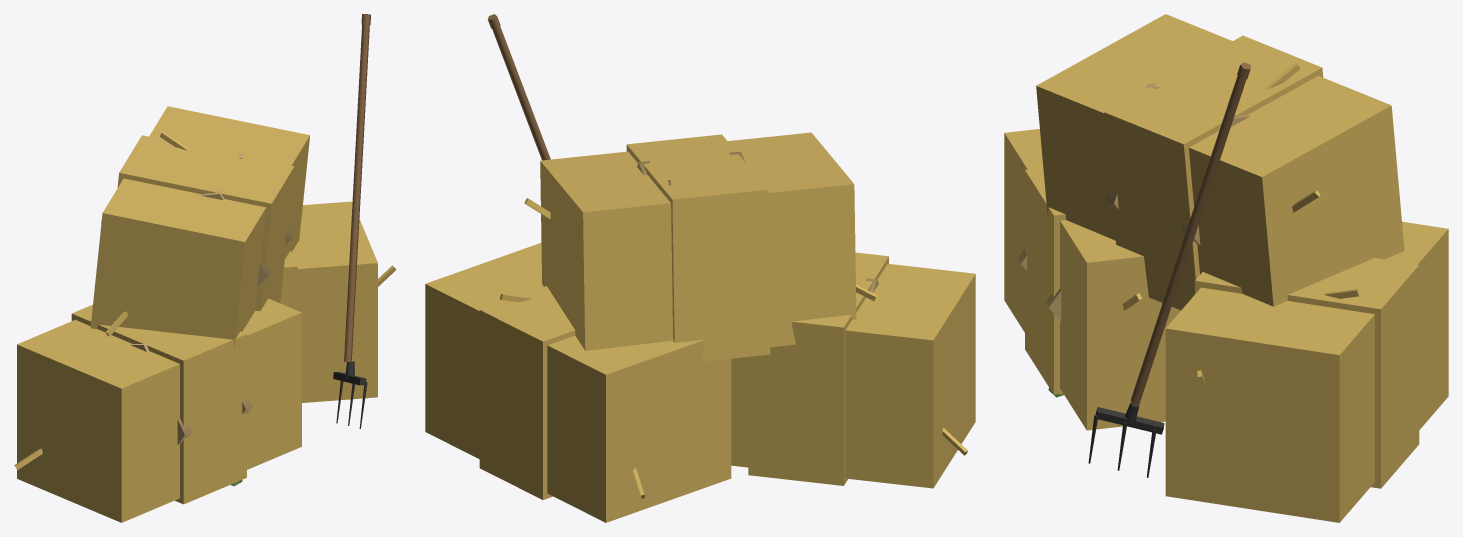
The model's file is hay-bales-a.glb.
3 renders of one model, left to right at view 1: azimuth 30°, elevation 25°; view 2: azimuth 150°, elevation 25°; view 3: azimuth 270°, elevation 25°, orthographic. The views are drawn at different scales.
Parts seen in each view (by area): view 1: Mesh_SegLeft0, Mesh_SegLeft2, Mesh_SegRight1, Mesh_SegMid0, Mesh_SegMid2, Mesh_SegRight0, Mesh_SegRight2, Mesh_ForkHandle, Mesh_SegMid1; view 2: Mesh_SegLeft1, Mesh_SegLeft0, Mesh_SegRight2, Mesh_SegMid2, Mesh_SegLeft2, Mesh_SegMid0, Mesh_SegMid1, Mesh_SegRight1, Mesh_SegRight0, Mesh_ForkHandle; view 3: Mesh_SegRight1, Mesh_SegRight2, Mesh_SegMid2, Mesh_SegRight0, Mesh_SegLeft2, Mesh_SegMid1, Mesh_SegMid0, Mesh_SegLeft1, Mesh_SegLeft0, Mesh_ForkHandle, Mesh_ForkCrossbar.
Boxes of the visible parts, x1=… form: Mesh_SegLeft0: x1=17, y1=319, x2=179, y2=522; Mesh_SegLeft2: x1=90, y1=178, x2=266, y2=347; Mesh_SegRight1: x1=291, y1=201, x2=377, y2=402; Mesh_SegMid0: x1=71, y1=304, x2=246, y2=504; Mesh_SegMid2: x1=117, y1=135, x2=294, y2=311; Mesh_SegRight0: x1=242, y1=298, x2=301, y2=469; Mesh_SegRight2: x1=149, y1=106, x2=309, y2=258; Mesh_ForkHandle: x1=344, y1=25, x2=369, y2=361; Mesh_SegMid1: x1=280, y1=250, x2=297, y2=310; Mesh_SegLeft1: x1=547, y1=335, x2=731, y2=522; Mesh_SegLeft0: x1=845, y1=264, x2=975, y2=488; Mesh_SegRight2: x1=540, y1=151, x2=673, y2=350; Mesh_SegMid2: x1=626, y1=134, x2=770, y2=361; Mesh_SegLeft2: x1=728, y1=132, x2=856, y2=347; Mesh_SegMid0: x1=748, y1=252, x2=888, y2=485; Mesh_SegMid1: x1=479, y1=286, x2=575, y2=499; Mesh_SegRight1: x1=425, y1=243, x2=543, y2=458; Mesh_SegRight0: x1=731, y1=357, x2=748, y2=467; Mesh_ForkHandle: x1=492, y1=26, x2=550, y2=160; Mesh_SegRight1: x1=1165, y1=287, x2=1374, y2=522; Mesh_SegRight2: x1=1189, y1=76, x2=1404, y2=306; Mesh_SegMid2: x1=1104, y1=35, x2=1323, y2=310; Mesh_SegRight0: x1=1060, y1=220, x2=1180, y2=430; Mesh_SegLeft2: x1=1036, y1=14, x2=1232, y2=240; Mesh_SegMid1: x1=1195, y1=258, x2=1419, y2=488; Mesh_SegMid0: x1=1025, y1=168, x2=1065, y2=394; Mesh_SegLeft1: x1=1385, y1=221, x2=1448, y2=429; Mesh_SegLeft0: x1=1004, y1=129, x2=1043, y2=332; Mesh_ForkHandle: x1=1130, y1=76, x2=1246, y2=404; Mesh_ForkCrossbar: x1=1095, y1=407, x2=1164, y2=434.
Size of the model in its own units: 1.39 by 1.17 by 1.03.
1 material, 1 textured.
